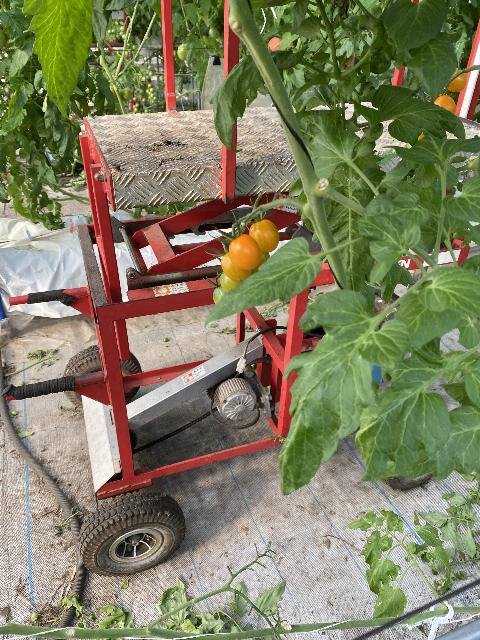l_fully_ripened: (229, 234, 262, 270)
l_half_ripened: (249, 220, 280, 253), (221, 252, 251, 282), (448, 67, 468, 93), (220, 272, 240, 292), (434, 94, 455, 113), (213, 286, 227, 305)
